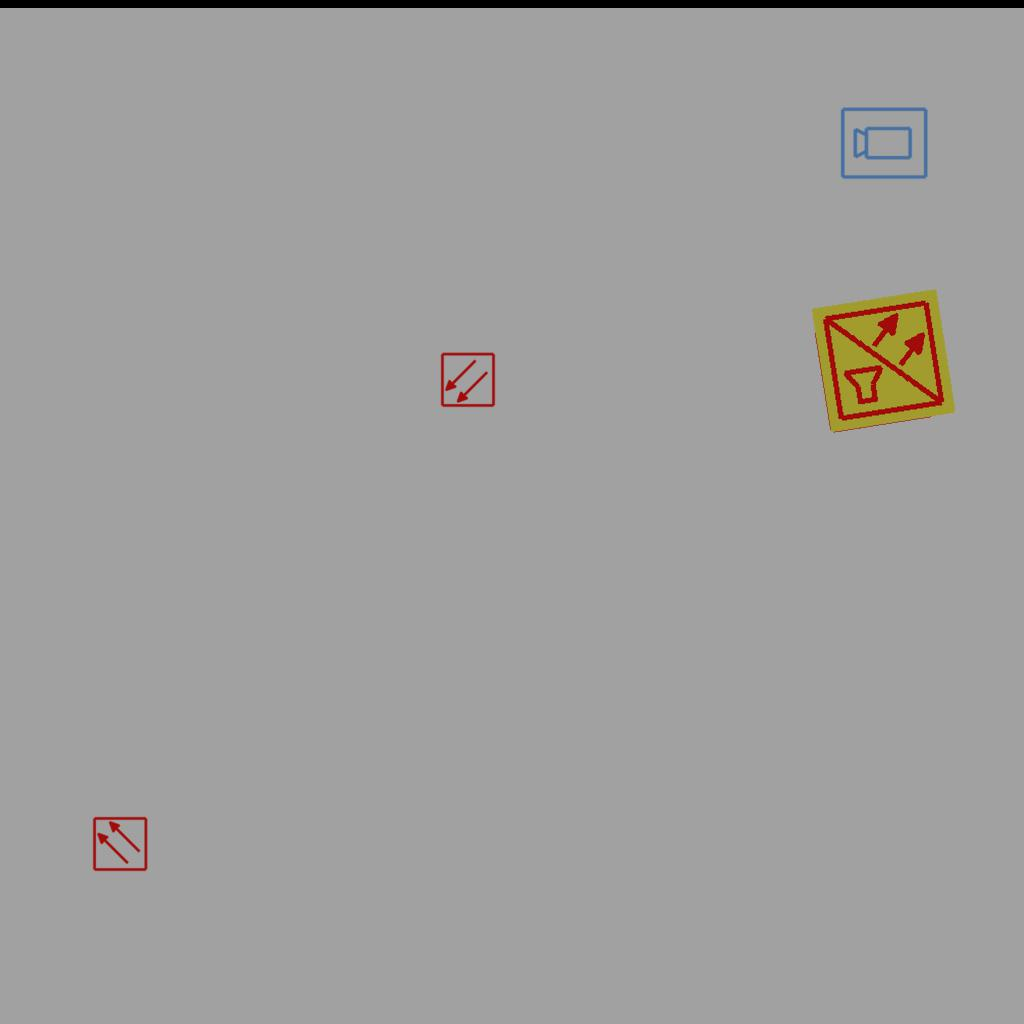KFO_Kamera_mit_Festobjektiv: (839, 104, 930, 181)
OKW_Multisensormelder_(Kombination_optischer_Rauch-Kahlenmonoxid_Waerme-Melder): (808, 285, 960, 437)
RMO_Rauchmelder_optischer: (92, 816, 148, 872), (440, 352, 496, 408)
